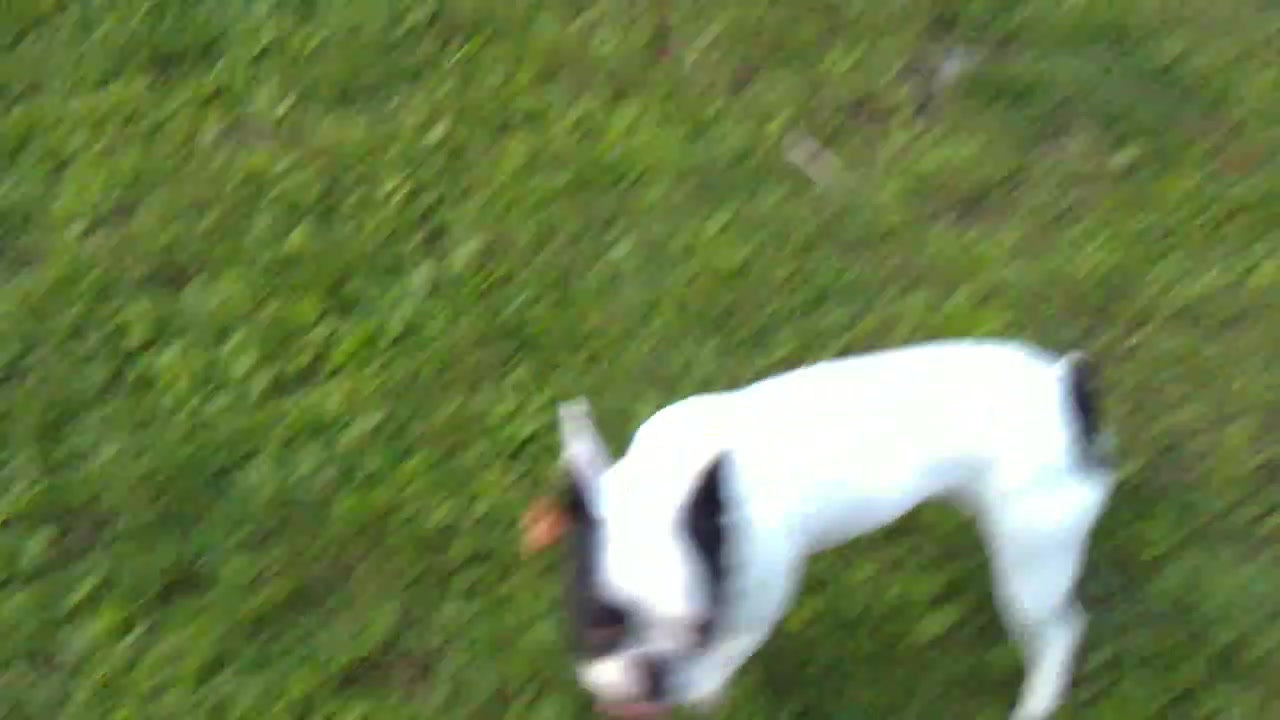dog: (519, 332, 1133, 720)
